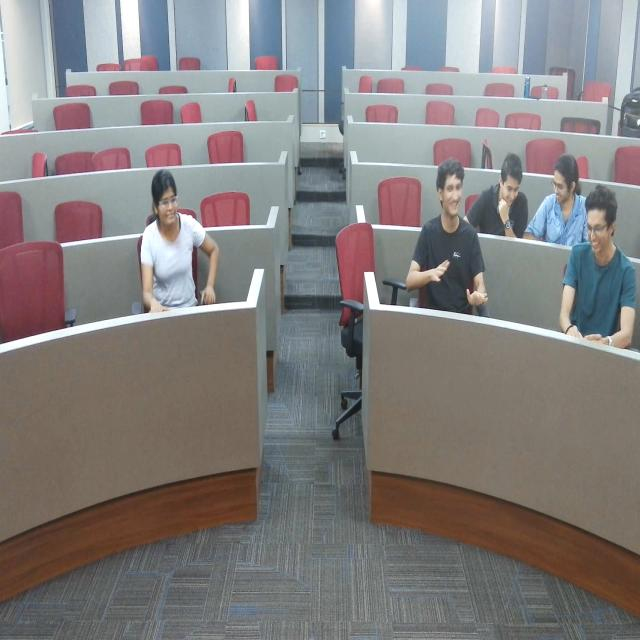cheating: (410, 157, 492, 326), (573, 200, 635, 354), (486, 142, 526, 239)
non-cheating: (140, 164, 206, 280), (544, 145, 585, 253), (206, 290, 208, 308)
